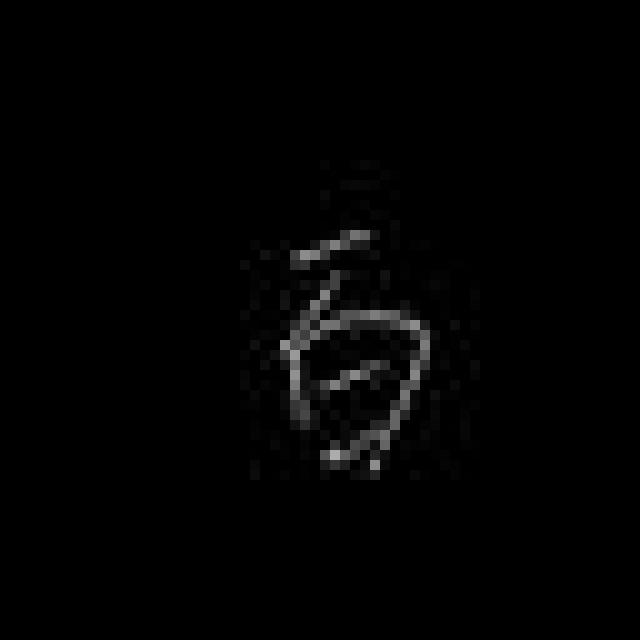100 -a hundred-: (264, 226, 440, 480)
